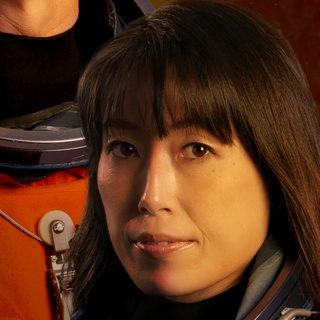eye: (178, 136, 220, 163), (104, 138, 144, 162)
